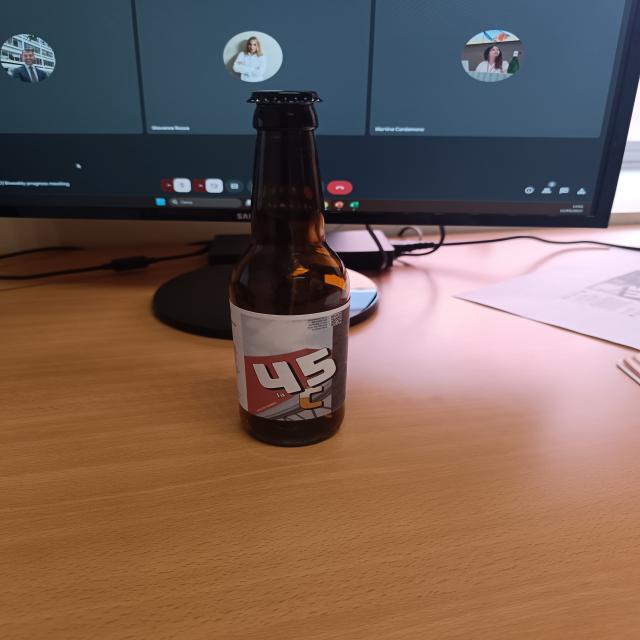Bottle: (231, 88, 353, 446)
Cap: (231, 85, 329, 108)
Label: (229, 301, 348, 423)
